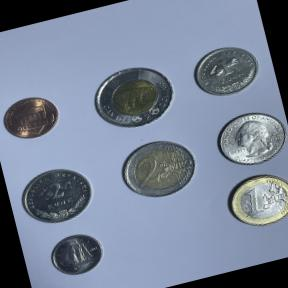coin: (84, 54, 184, 138), (112, 128, 206, 208), (11, 157, 102, 232), (205, 101, 288, 175), (219, 165, 288, 237), (0, 88, 65, 145), (44, 226, 110, 282)
